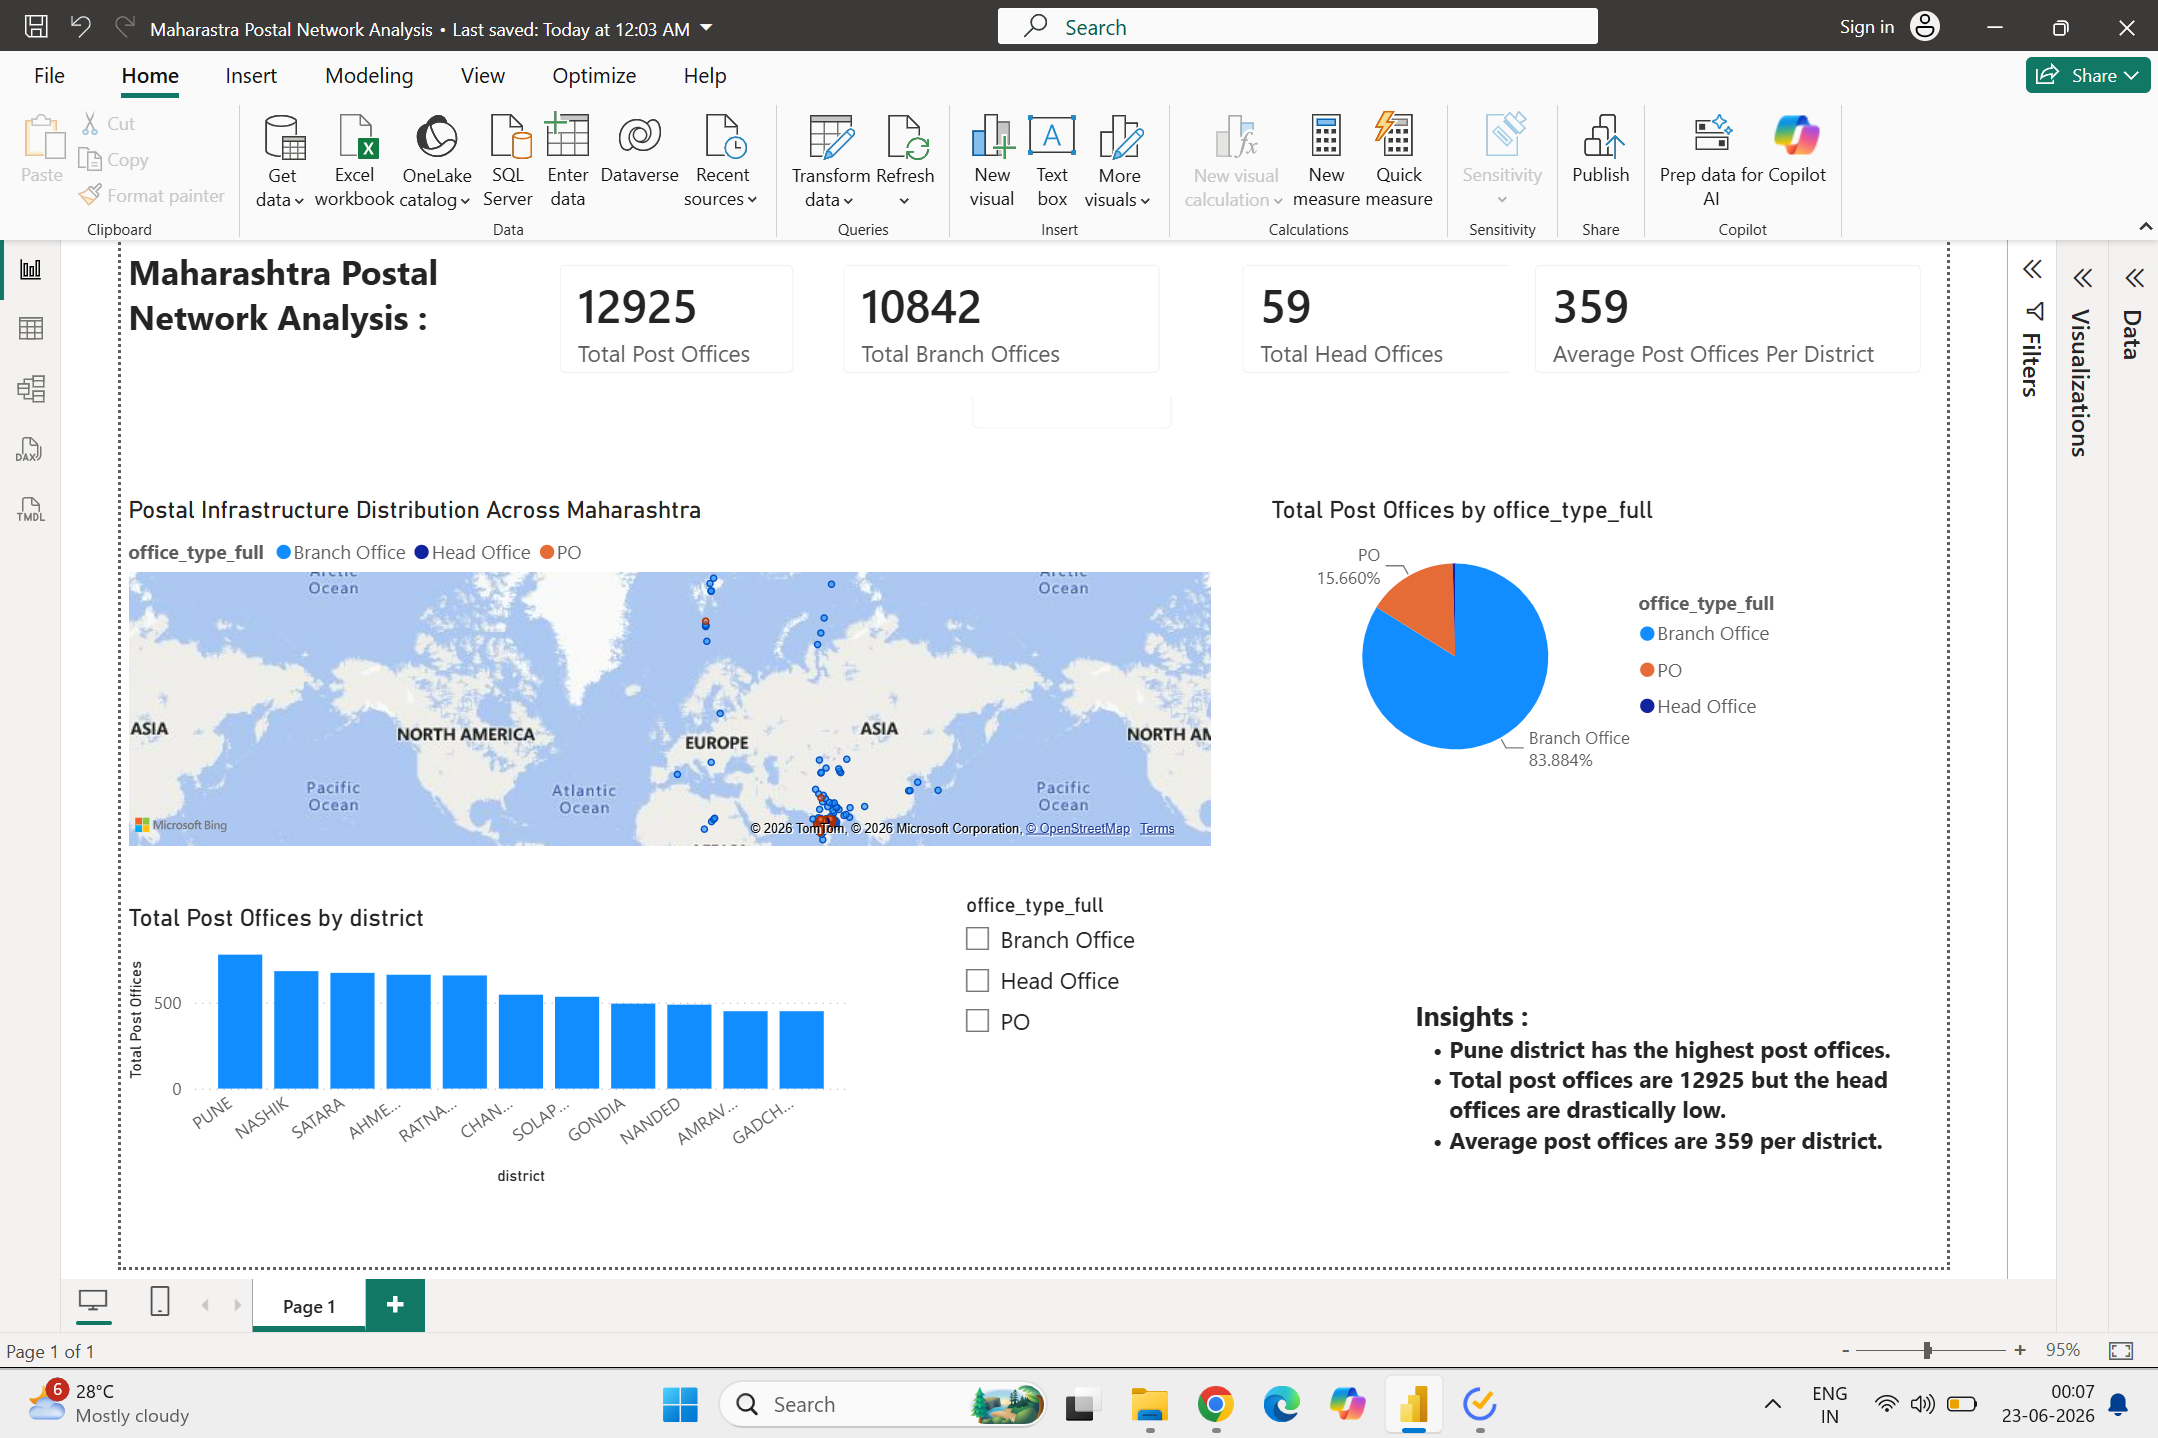

What the dashboard file says about the page in this screenshot:
{"tool":"powerbi","page":{"name":"Page 1","canvas":[1280,720],"ordinal":0},"visuals":[{"type":"map","title":"Postal Infrastructure Distribution Across Maharashtra","fields":{"Y":["Cleaned_Maharashtra_Postal_Data.latitude"],"X":["Cleaned_Maharashtra_Postal_Data.longitude"],"Series":["Cleaned_Maharashtra_Postal_Data.office_type_full"]},"box":[0,178.9,768.9,250.7],"z":0},{"type":"cardVisual","fields":{"Data":["Cleaned_Maharashtra_Postal_Data.Total Post Offices"]},"box":[290.4,0,198.7,110.1],"z":1000},{"type":"slicer","fields":{"Values":["Cleaned_Maharashtra_Postal_Data.office_type_full"]},"box":[579.4,452.5,189.6,194.1],"z":1001},{"type":"cardVisual","fields":{"Data":["Cleaned_Maharashtra_Postal_Data.Total Districts"]},"box":[579.4,0,174.3,149.8],"z":1002},{"type":"cardVisual","fields":{"Data":["Cleaned_Maharashtra_Postal_Data.Total Branch Offices"]},"box":[489.2,0,256.8,110.1],"z":1003},{"type":"cardVisual","fields":{"Data":["Cleaned_Maharashtra_Postal_Data.Total Head Offices"]},"box":[768.9,0,236.9,110.1],"z":1004},{"type":"clusteredColumnChart","fields":{"Category":["Cleaned_Maharashtra_Postal_Data.district"],"Y":["Cleaned_Maharashtra_Postal_Data.Total Post Offices"]},"box":[0,464.7,513.6,201.8],"z":1007},{"type":"cardVisual","fields":{"Data":["Cleaned_Maharashtra_Postal_Data.Average Post Offices Per District"]},"box":[973.8,0,305.7,110.1],"z":1008},{"type":"pieChart","fields":{"Category":["Cleaned_Maharashtra_Postal_Data.office_type_full"],"Y":["Cleaned_Maharashtra_Postal_Data.Total Post Offices"]},"box":[801,178.9,377.6,206.4],"z":1009},{"type":"textbox","box":[0,0,256.4,110.6],"z":1010},{"type":"textbox","box":[901.9,525.9,377.6,194.1],"z":1011}]}

Visuals, with their boxes on the page's 1280x720 design canvas (x1, y1, x2, y2). These are canvas units, not pixel positions in the 2158x1438 screenshot, which may show the page scaled, cropped or inside an application window:
"Postal Infrastructure Distribution Across Maharashtra" map: {"x1": 0, "y1": 179, "x2": 769, "y2": 430}
cardVisual - Cleaned_Maharashtra_Postal_Data.Total Post Offices: {"x1": 290, "y1": 0, "x2": 489, "y2": 110}
slicer - Cleaned_Maharashtra_Postal_Data.office_type_full: {"x1": 579, "y1": 452, "x2": 769, "y2": 647}
cardVisual - Cleaned_Maharashtra_Postal_Data.Total Districts: {"x1": 579, "y1": 0, "x2": 754, "y2": 150}
cardVisual - Cleaned_Maharashtra_Postal_Data.Total Branch Offices: {"x1": 489, "y1": 0, "x2": 746, "y2": 110}
cardVisual - Cleaned_Maharashtra_Postal_Data.Total Head Offices: {"x1": 769, "y1": 0, "x2": 1006, "y2": 110}
clusteredColumnChart - Cleaned_Maharashtra_Postal_Data.district x Cleaned_Maharashtra_Postal_Data.Total Post Offices: {"x1": 0, "y1": 465, "x2": 514, "y2": 666}
cardVisual - Cleaned_Maharashtra_Postal_Data.Average Post Offices Per District: {"x1": 974, "y1": 0, "x2": 1280, "y2": 110}
pieChart - Cleaned_Maharashtra_Postal_Data.office_type_full x Cleaned_Maharashtra_Postal_Data.Total Post Offices: {"x1": 801, "y1": 179, "x2": 1179, "y2": 385}
textbox: {"x1": 0, "y1": 0, "x2": 256, "y2": 111}
textbox: {"x1": 902, "y1": 526, "x2": 1280, "y2": 720}
